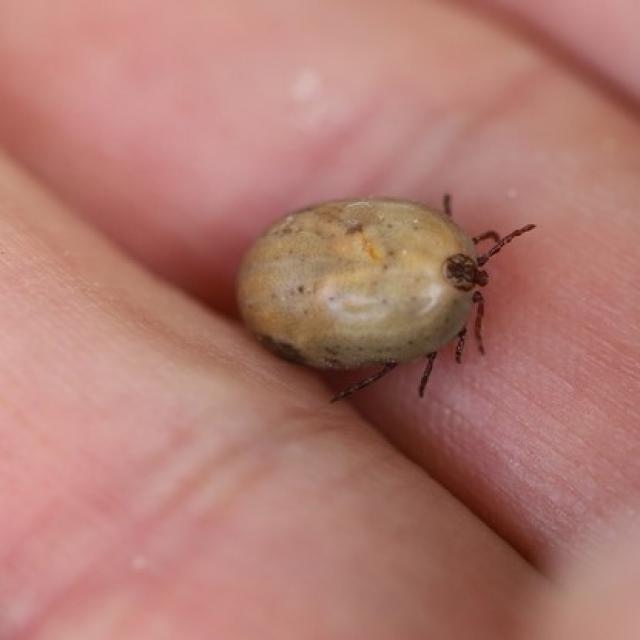Dermacentor Reticulatus-F-Fed: (236, 192, 537, 402)
